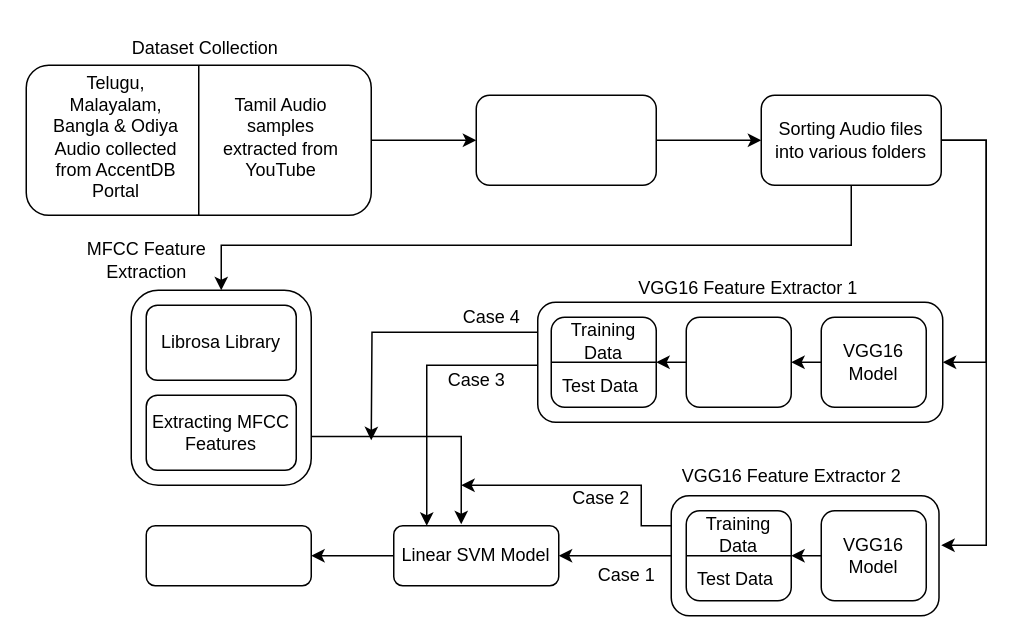
Image size: 1025x642. Some labels were removed from this diagram. The box of each missing label's shape, as (x1, y1, x2, y2) in pixels:
Extracting WAV Files: (475, 94, 656, 185)
Processed Data (PCA): (685, 316, 791, 407)
Result: (145, 524, 311, 586)
